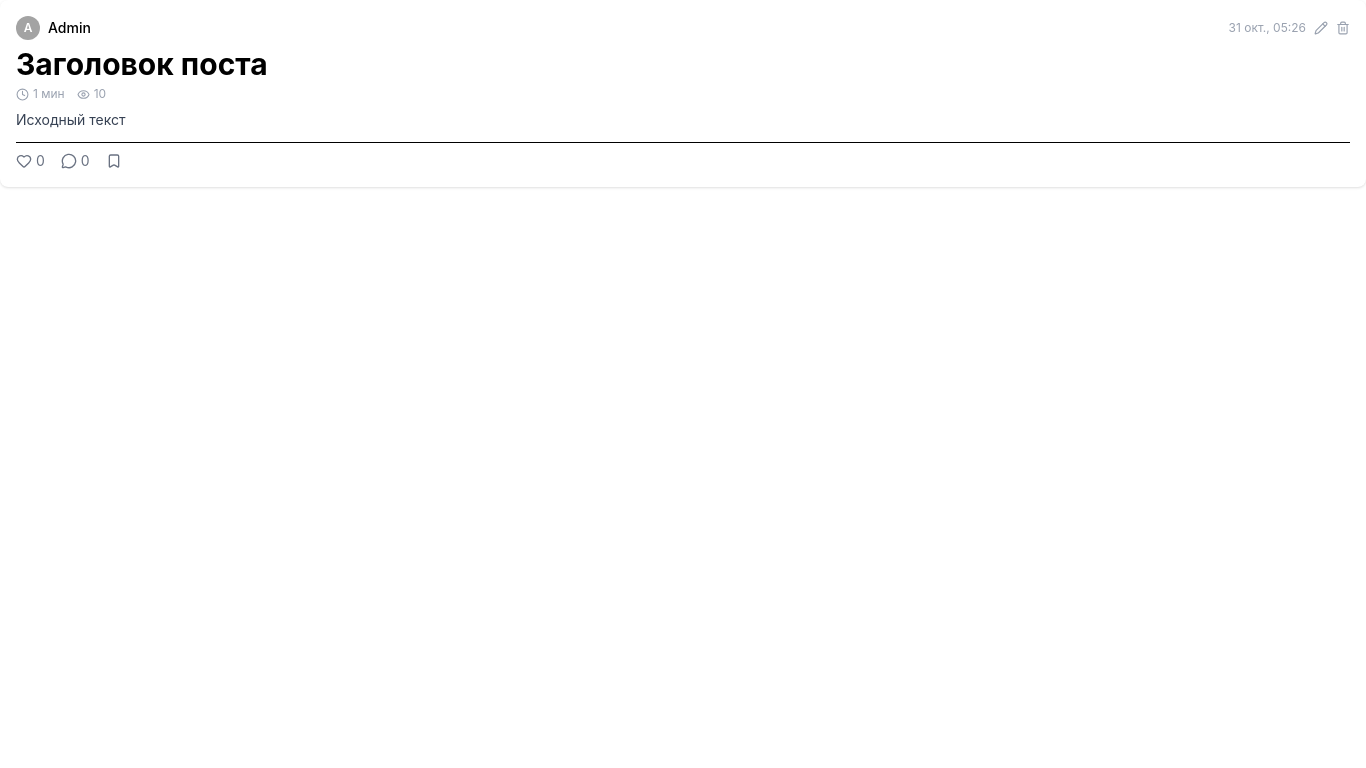
Test: PostCard редактирование › отмена редактирования сбрасывает заголовок/текст и возвращает WYSIWYG-режим
Click the button with class "lucide-pencil" at coordinates (1321, 28), box [1314,21,1328,35]
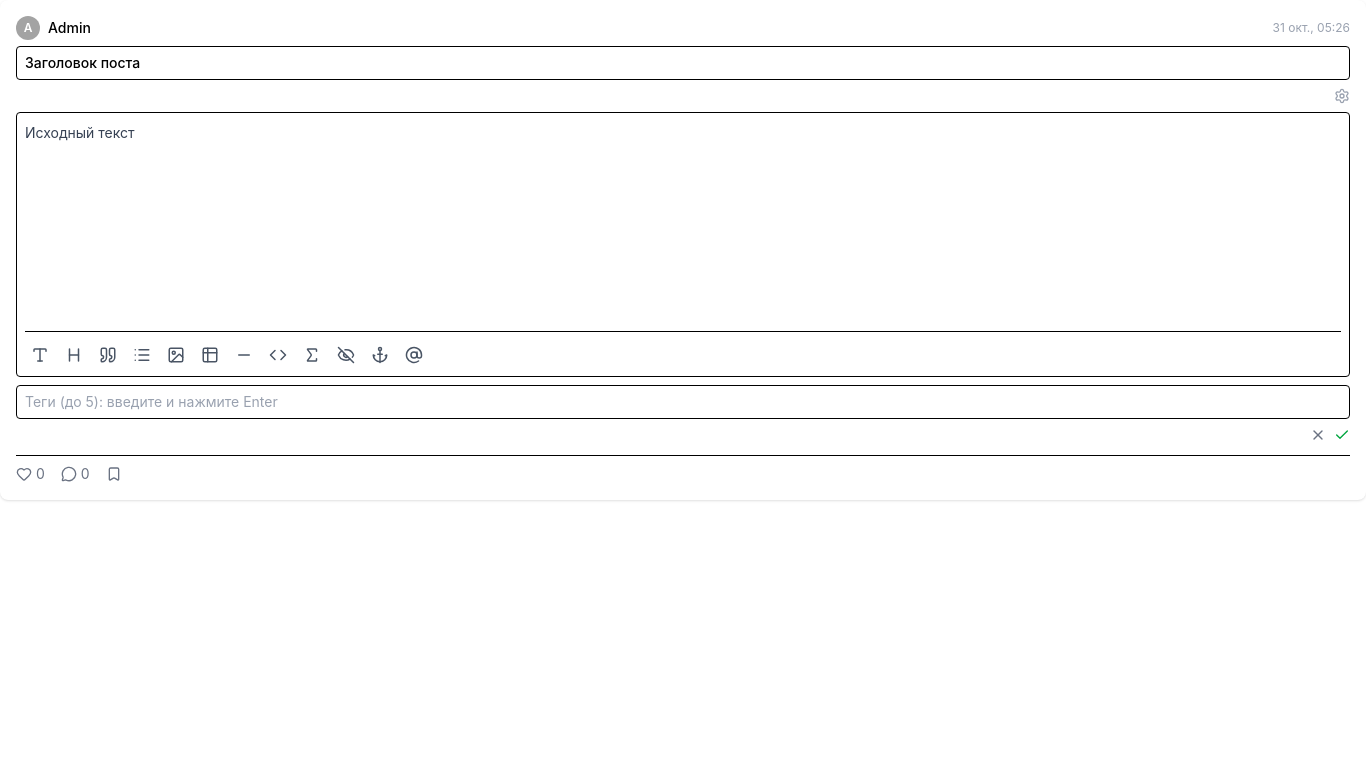
Replace the text in the field showing "Заголовок поста" with "Изменённый заголовок" at coordinates (683, 63), box [16,46,1350,80]
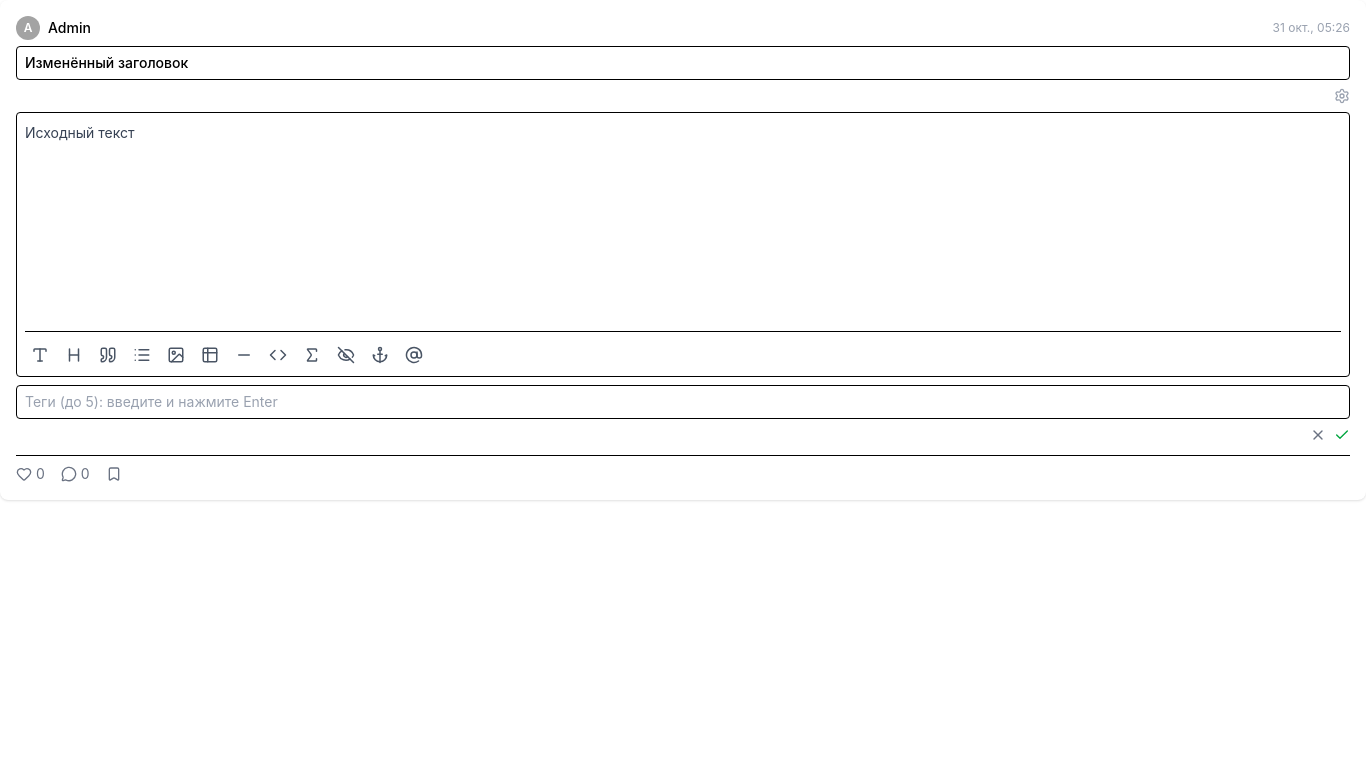
Click the button titled "Настройки редактора" at coordinates (1342, 96), box [1334,88,1350,104]
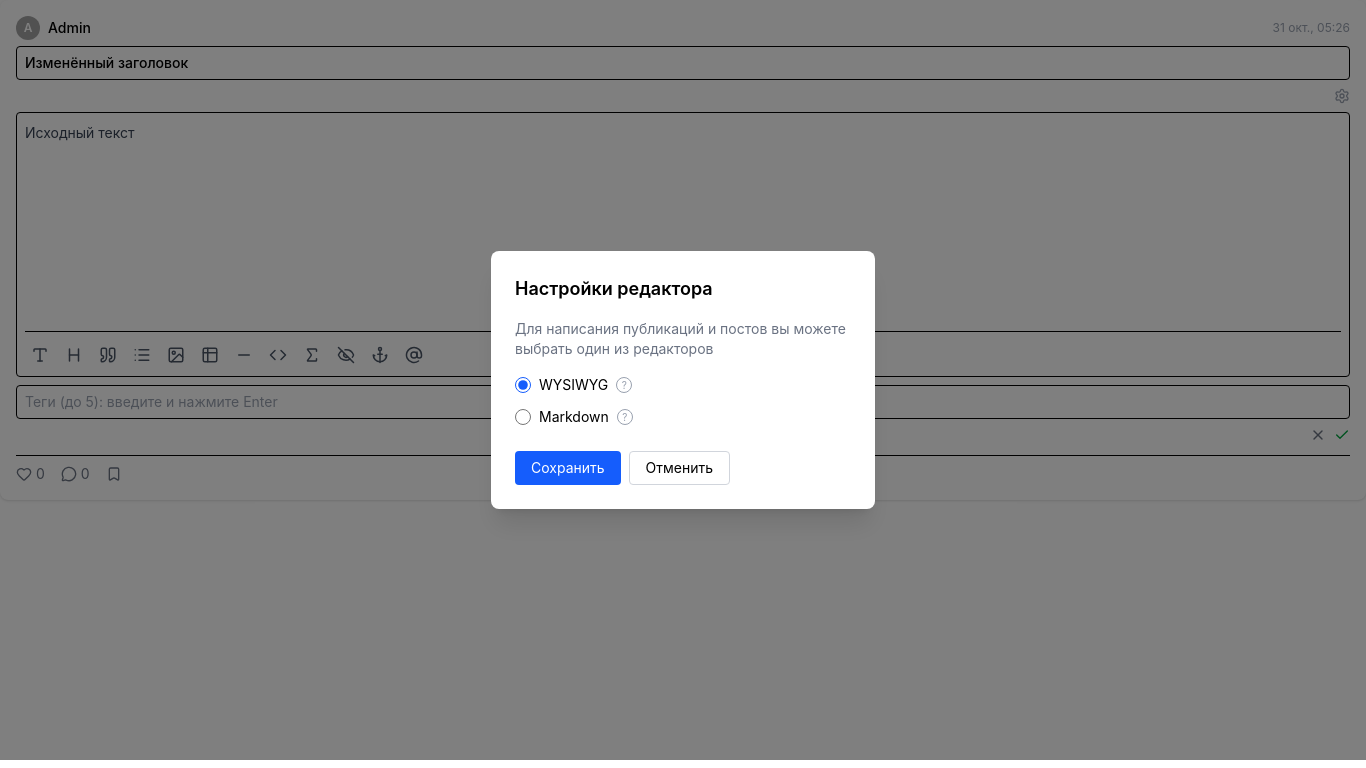
Click the radio button labelled "Markdown ?" at coordinates (523, 417), box [515,409,531,425]
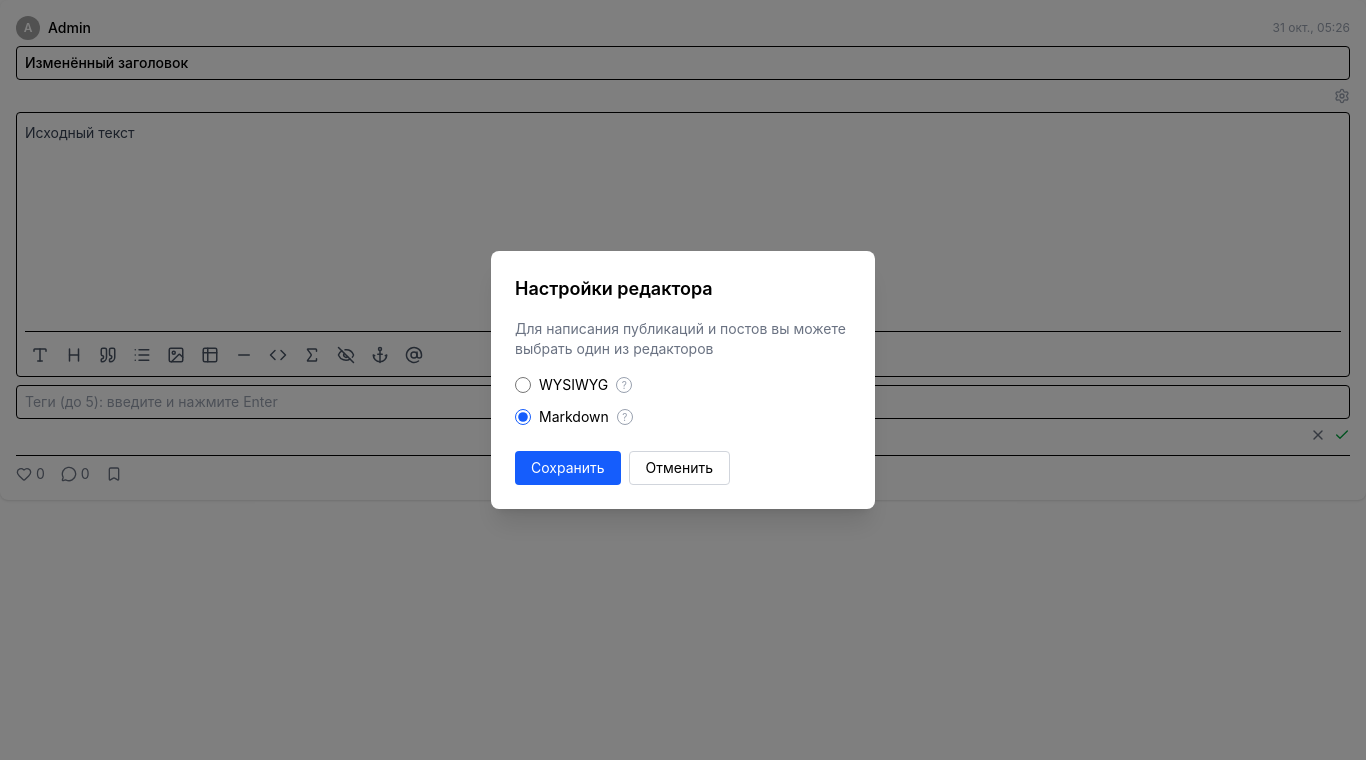
Click the button "Сохранить" at coordinates (568, 468), box [515,451,621,485]
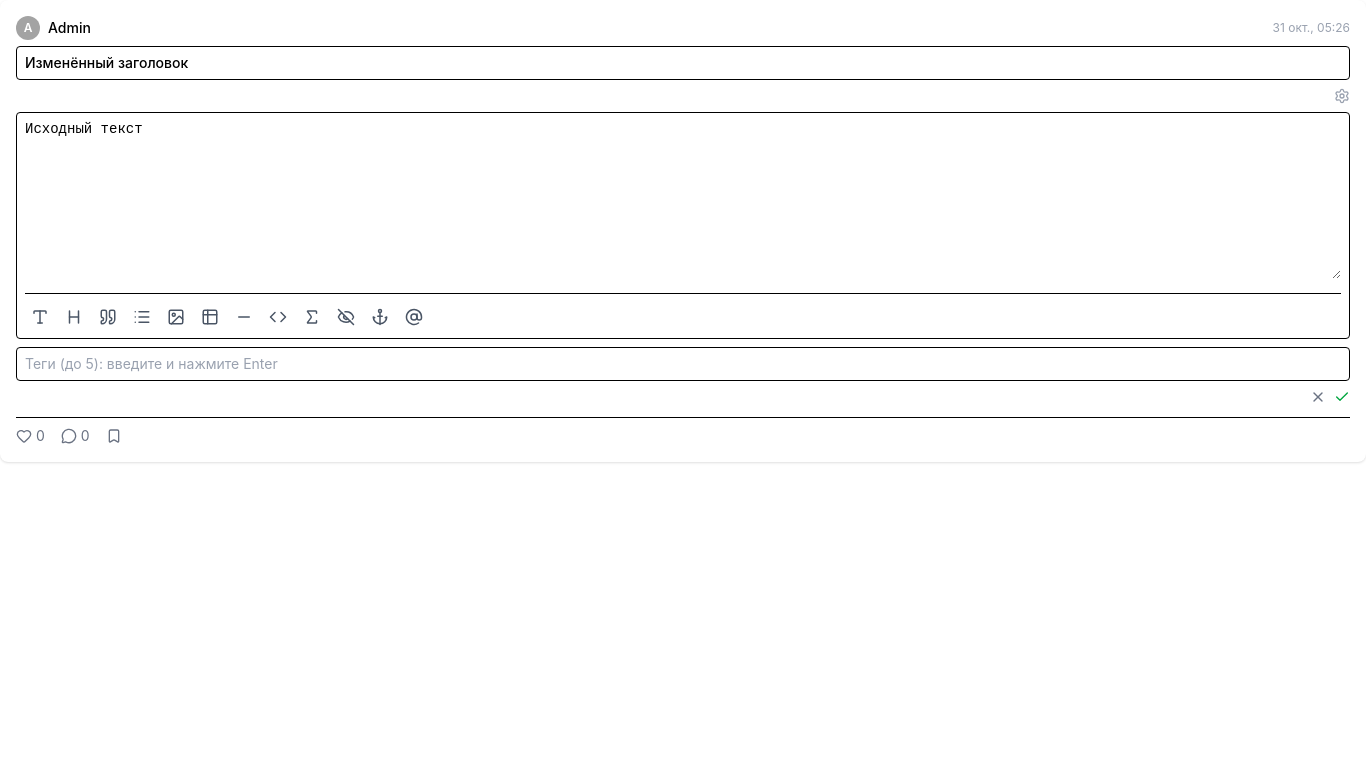
Now the text box showing "Исходный текст" is shown, box [25,119,1341,279]
Click the button with class "lucide-x" at coordinates (1318, 397), box [1310,389,1326,405]
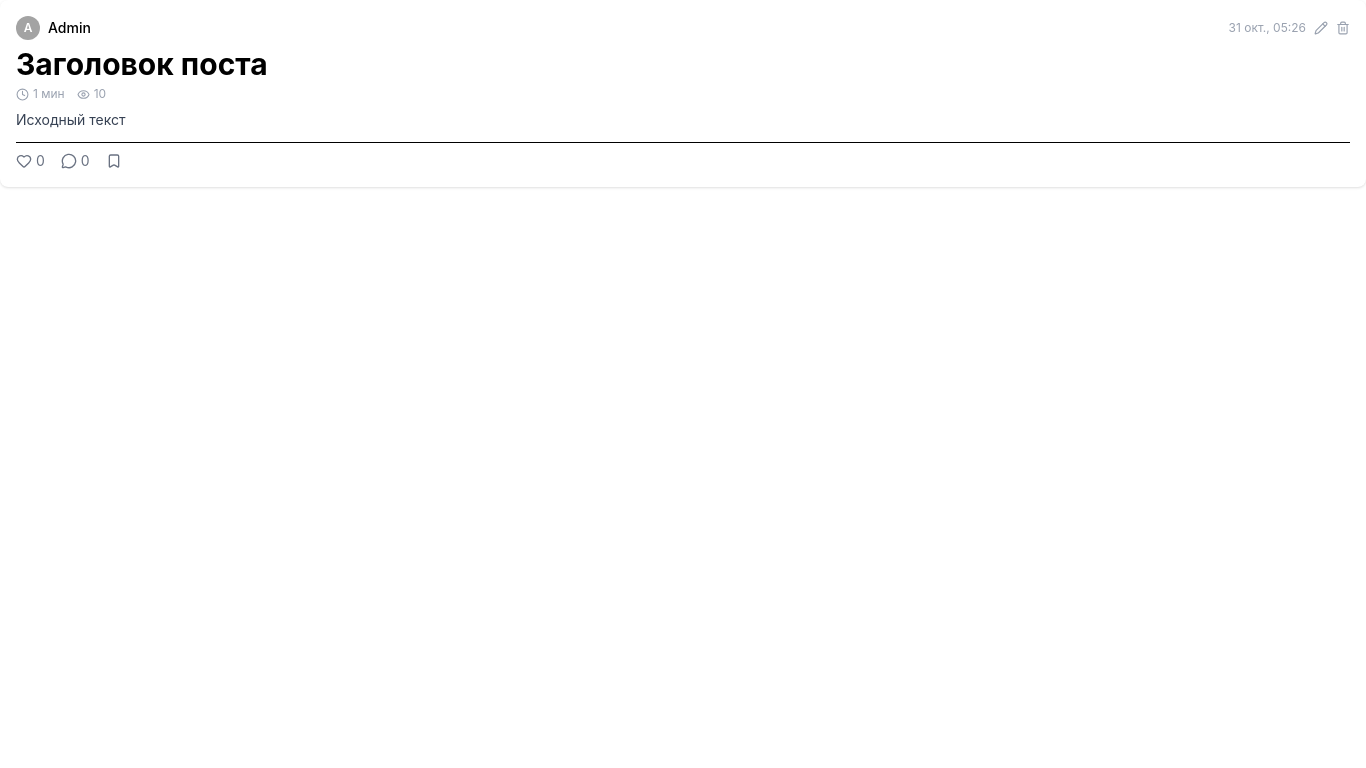
Now the field showing "Изменённый заголовок" is gone
Now the heading "Заголовок поста" is shown, box [16,46,268,82]
